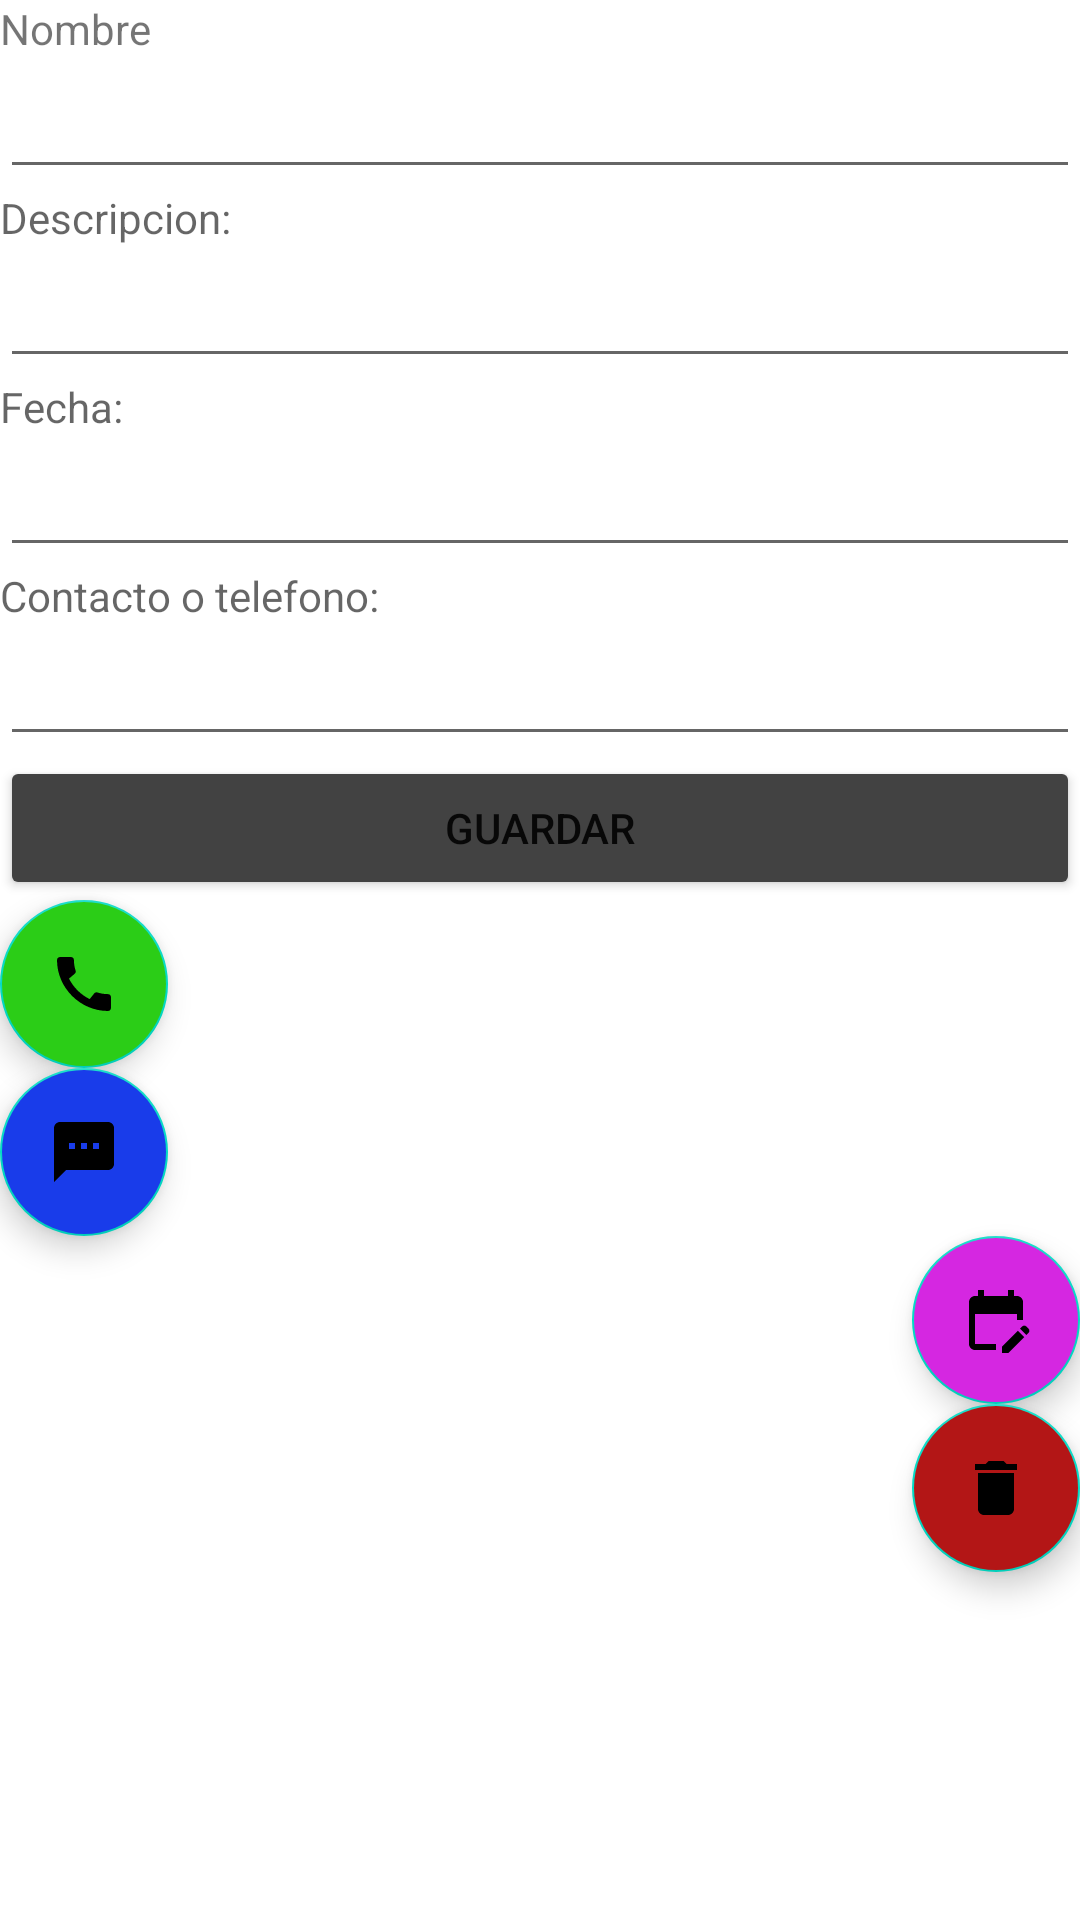

Icon click points for this 1080 x 1920 phone screenshot, format [x,y]:
editar: [996,1320]
eliminar: [996,1488]
llamar: [84,984]
